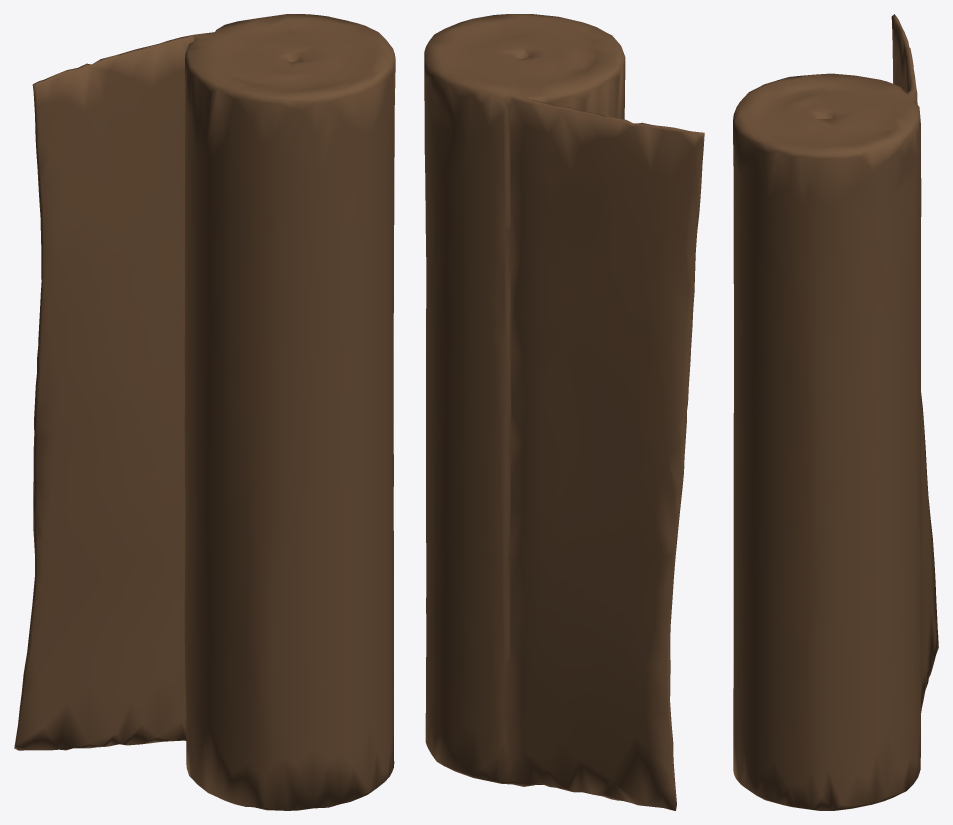
Rendered from carton.glb.
3 views of the same model, side by side, from view 1: azimuth 30°, elevation 25°; view 2: azimuth 150°, elevation 25°; view 3: azimuth 270°, elevation 25° (orthographic). The views are drawn at different scales.
Parts seen in each view (by area): view 1: Meshy_Mesh_0.001; view 2: Meshy_Mesh_0.001; view 3: Meshy_Mesh_0.001.
Boxes of the visible parts, left/top/right/bottom form: Meshy_Mesh_0.001: left=14, top=14, right=395, bottom=810; Meshy_Mesh_0.001: left=424, top=14, right=704, bottom=810; Meshy_Mesh_0.001: left=733, top=14, right=938, bottom=810.
Bounding box in the file's own units: 0.2474 × 0.5361 × 0.1519.
